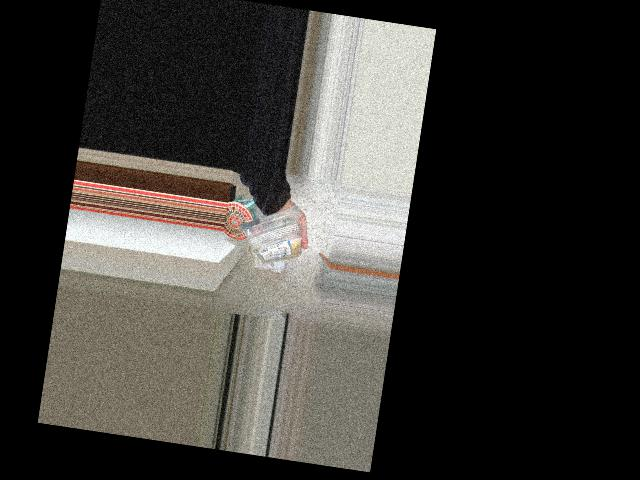cheese: (229, 197, 306, 280)
